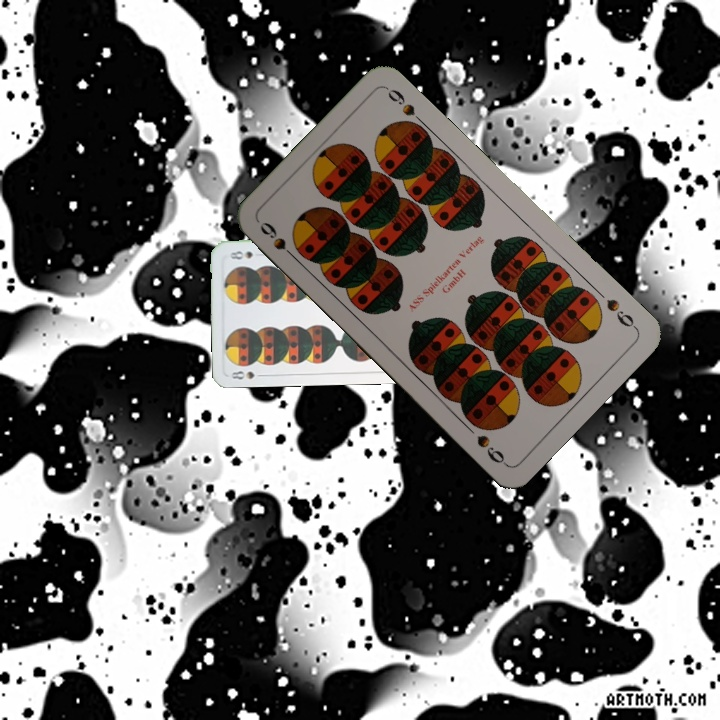S8: (227, 367, 268, 382)
S9: (255, 218, 302, 265), (602, 295, 640, 332)
